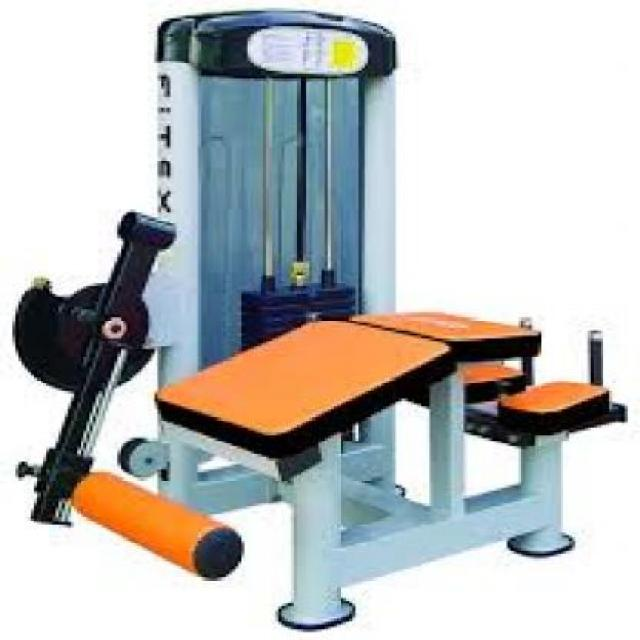reg curl machine: (17, 9, 632, 631)
